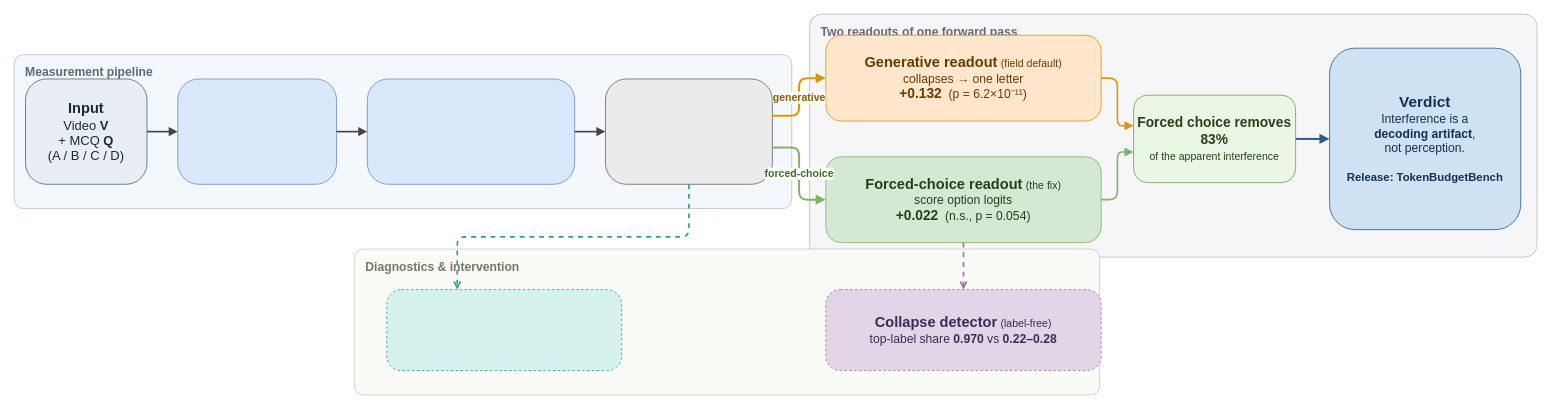
The diagram is 1551 pixels wide and 409 high, and some of its shapes have lost their labels. The shapes that lost their labels are listed below. From the top down, each one's centre as x and y in pixels, then its label:
(x=257, y=131): Frame selection → K frames K ∈ {4, 8, 16, 32}
(x=471, y=131): Pixel budget Resolution ρ → M(ρ) tokens/frame Budget B = K·M(ρ)
(x=688, y=131): Frozen VLM ❄ Qwen2.5-VL-7B one forward pass
(x=504, y=330): LoRA repair (0.12% of weights) accuracy 0.202 → 0.756
